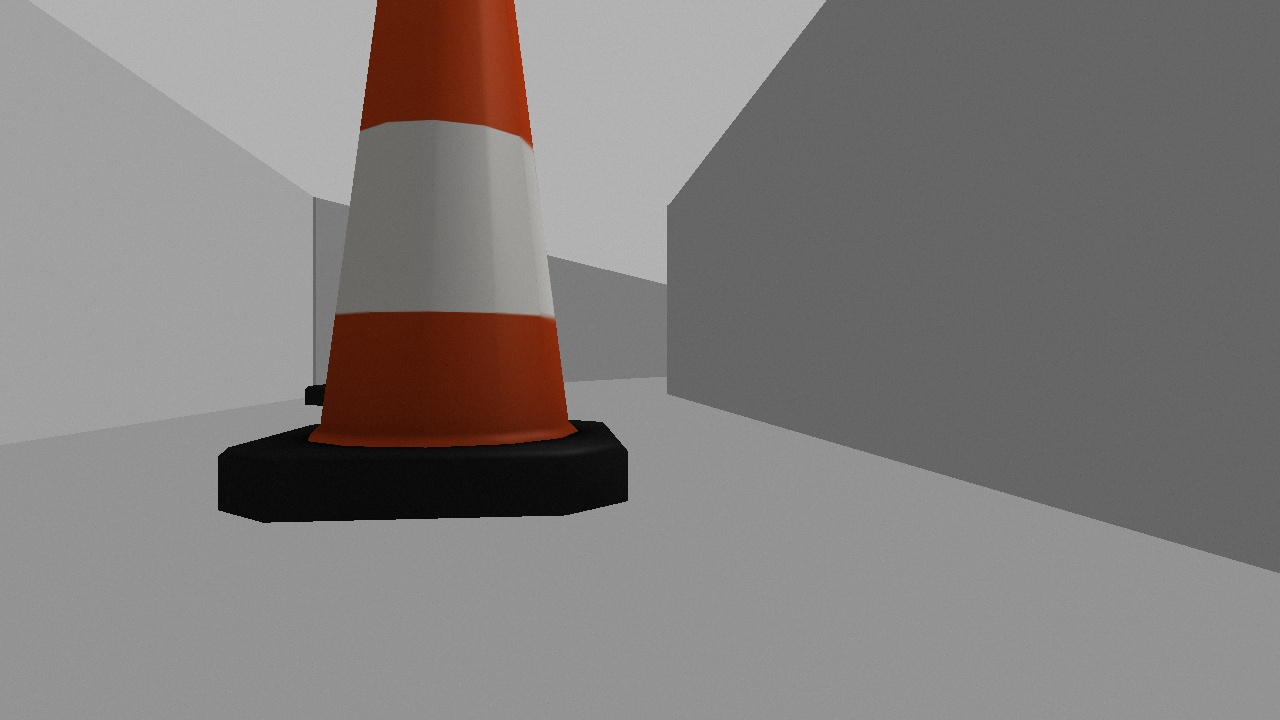barricade: (215, 1, 630, 521)
